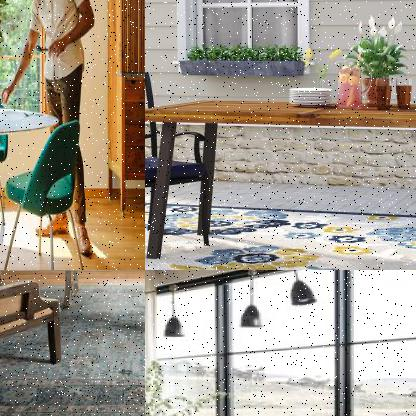table: (145, 90, 415, 269), (0, 270, 144, 353), (0, 96, 61, 264)
